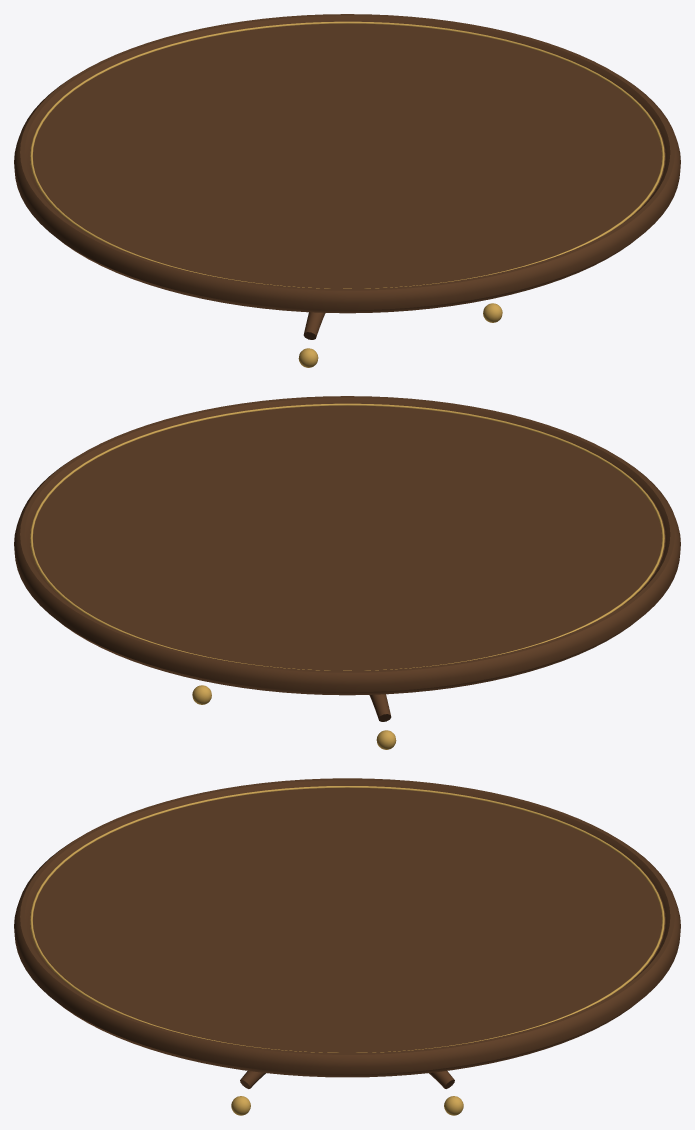
Rendered from table.glb.
3 views of the same model, one above another, from view 1: azimuth 30°, elevation 25°; view 2: azimuth 150°, elevation 25°; view 3: azimuth 270°, elevation 25° (orthographic).
Parts seen in each view (by area): view 1: Table; view 2: Table; view 3: Table.
Boxes of the visible parts, x1,y1,x2,y2 form: Table: [14, 14, 680, 367]; Table: [14, 396, 680, 749]; Table: [14, 778, 680, 1115].
Size of the model in its own units: 17.52 by 4.44 by 17.52.
